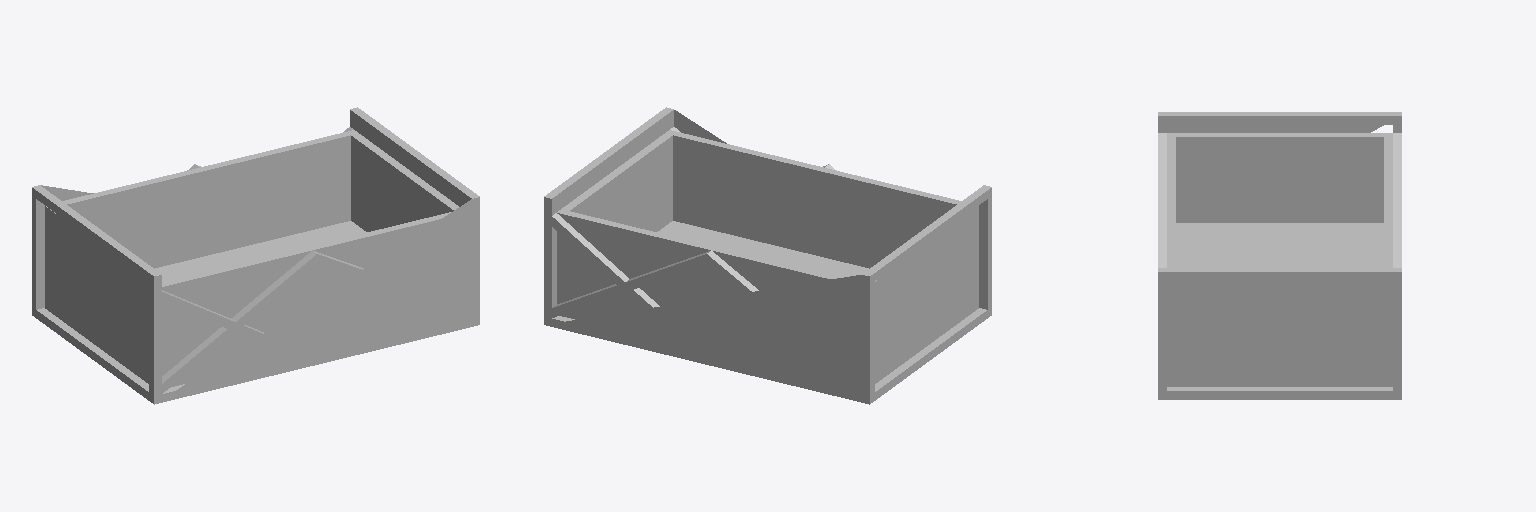
Rendered from cart.obj.
3 renders of one model, left to right at view 1: azimuth 30°, elevation 25°; view 2: azimuth 150°, elevation 25°; view 3: azimuth 270°, elevation 25°, orthographic.
Visible parts, largest first — view 1: Mesh1 Group2 Group1 Model, Mesh2 Group3 Group1 Model, Mesh3 Group4 Group1 Model; view 2: Mesh1 Group2 Group1 Model, Mesh2 Group3 Group1 Model, Mesh4 Group5 Group1 Model; view 3: Mesh1 Group2 Group1 Model, Mesh2 Group3 Group1 Model, Mesh3 Group4 Group1 Model, Mesh4 Group5 Group1 Model.
Boxes of the visible parts, x1=… form: Mesh1 Group2 Group1 Model: x1=45, y1=130, x2=458, y2=387; Mesh2 Group3 Group1 Model: x1=32, y1=107, x2=479, y2=404; Mesh3 Group4 Group1 Model: x1=162, y1=217, x2=471, y2=393; Mesh1 Group2 Group1 Model: x1=557, y1=130, x2=978, y2=383; Mesh2 Group3 Group1 Model: x1=544, y1=107, x2=991, y2=404; Mesh4 Group5 Group1 Model: x1=552, y1=213, x2=861, y2=388; Mesh1 Group2 Group1 Model: x1=1167, y1=133, x2=1392, y2=386; Mesh2 Group3 Group1 Model: x1=1158, y1=112, x2=1401, y2=399; Mesh3 Group4 Group1 Model: x1=1158, y1=133, x2=1166, y2=267; Mesh4 Group5 Group1 Model: x1=1393, y1=133, x2=1401, y2=267.
Bounding box in the file's own units: 2000 × 750 × 1300.